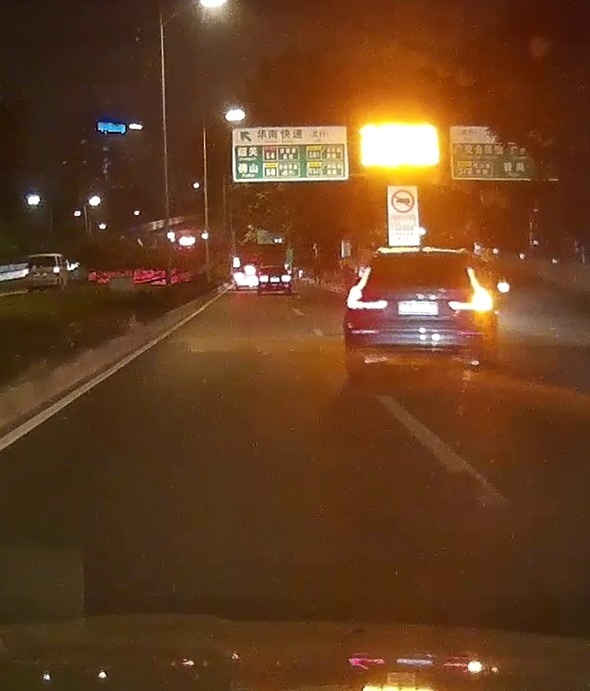L_light: (345, 266, 387, 309)
R_light: (447, 267, 490, 311)
T_light: (408, 253, 431, 259)
night-right: (342, 248, 494, 370)
